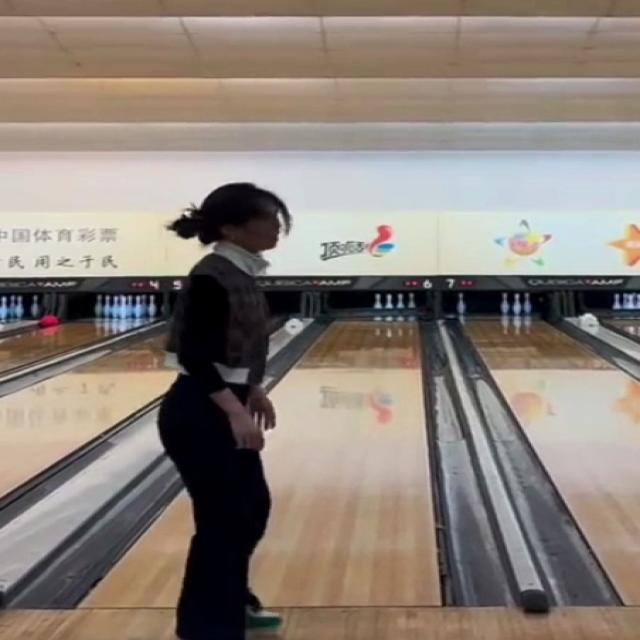alley: (251, 320, 440, 612), (84, 499, 188, 606)
